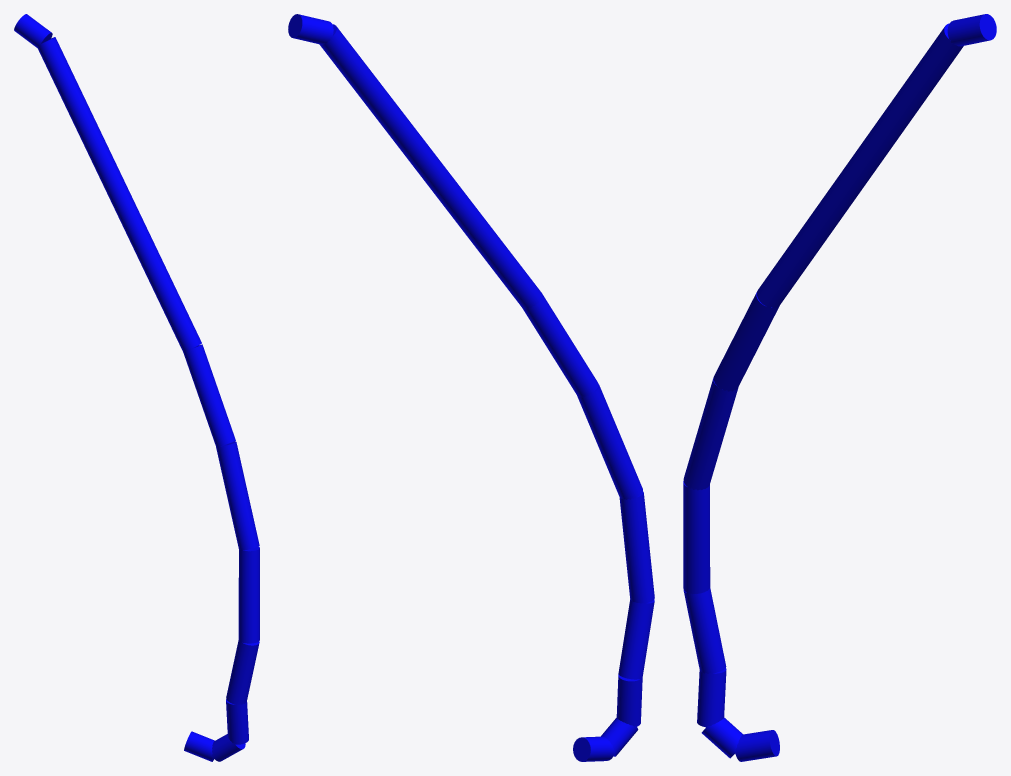
3 views of the same model, side by side, from view 1: azimuth 90°, elevation 25°; view 2: azimuth 150°, elevation 25°; view 3: azimuth 270°, elevation 25° (orthographic). The views are drawn at different scales.
Visible parts, largest first — view 1: Cylinder(Clone) (×9); view 2: Cylinder(Clone) (×9); view 3: Cylinder(Clone) (×9).
Part boxes in pixels (<box>): Cylinder(Clone) (×9): <box>14,14,259,761</box>; Cylinder(Clone) (×9): <box>288,14,654,761</box>; Cylinder(Clone) (×9): <box>683,14,996,761</box>.
Bounding box in the file's own units: 0.1092 × 0.3483 × 0.1166.
